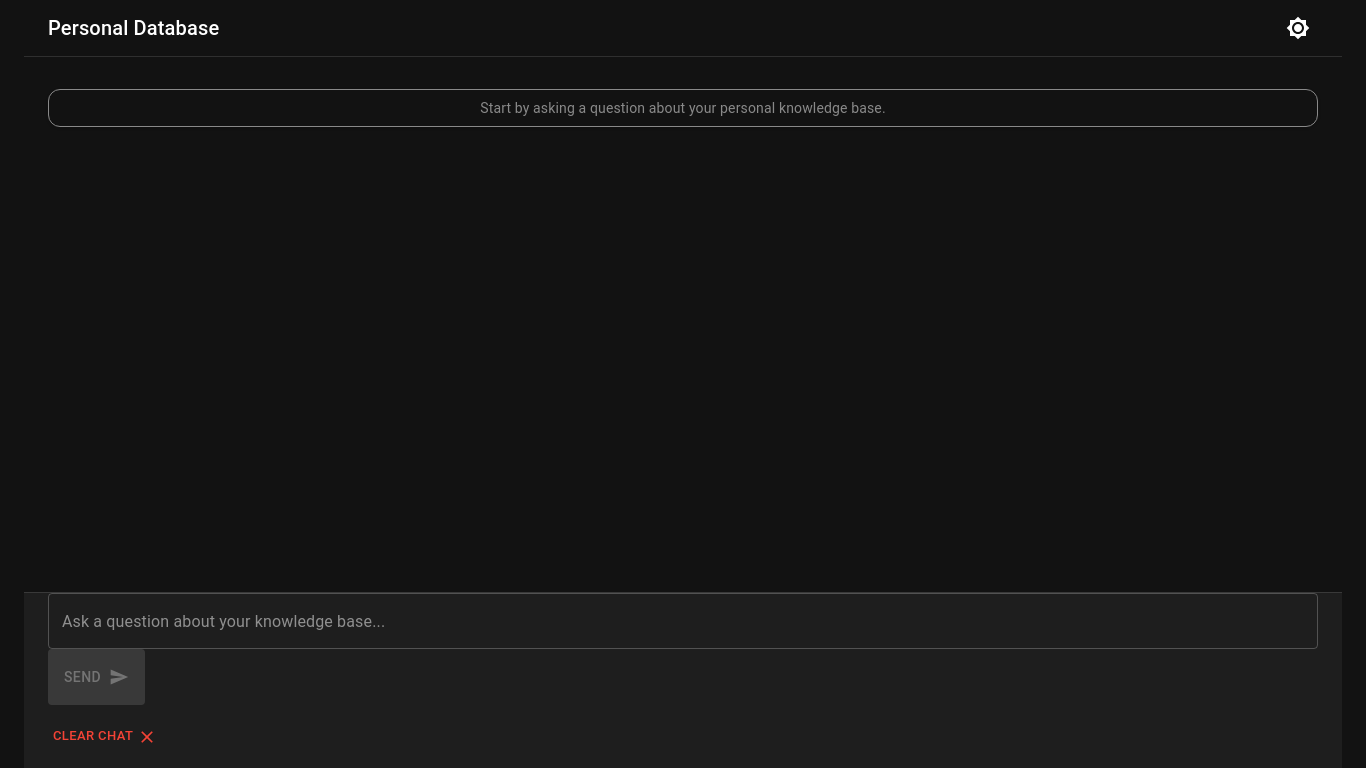
App › Input interaction › enables send button when input has text
Check: the button "Send" is disabled, box [48,649,145,705]
Type "Hello world" into the field with placeholder "Ask a question about your knowledge base..." at (683, 621), box [48,593,1318,649]
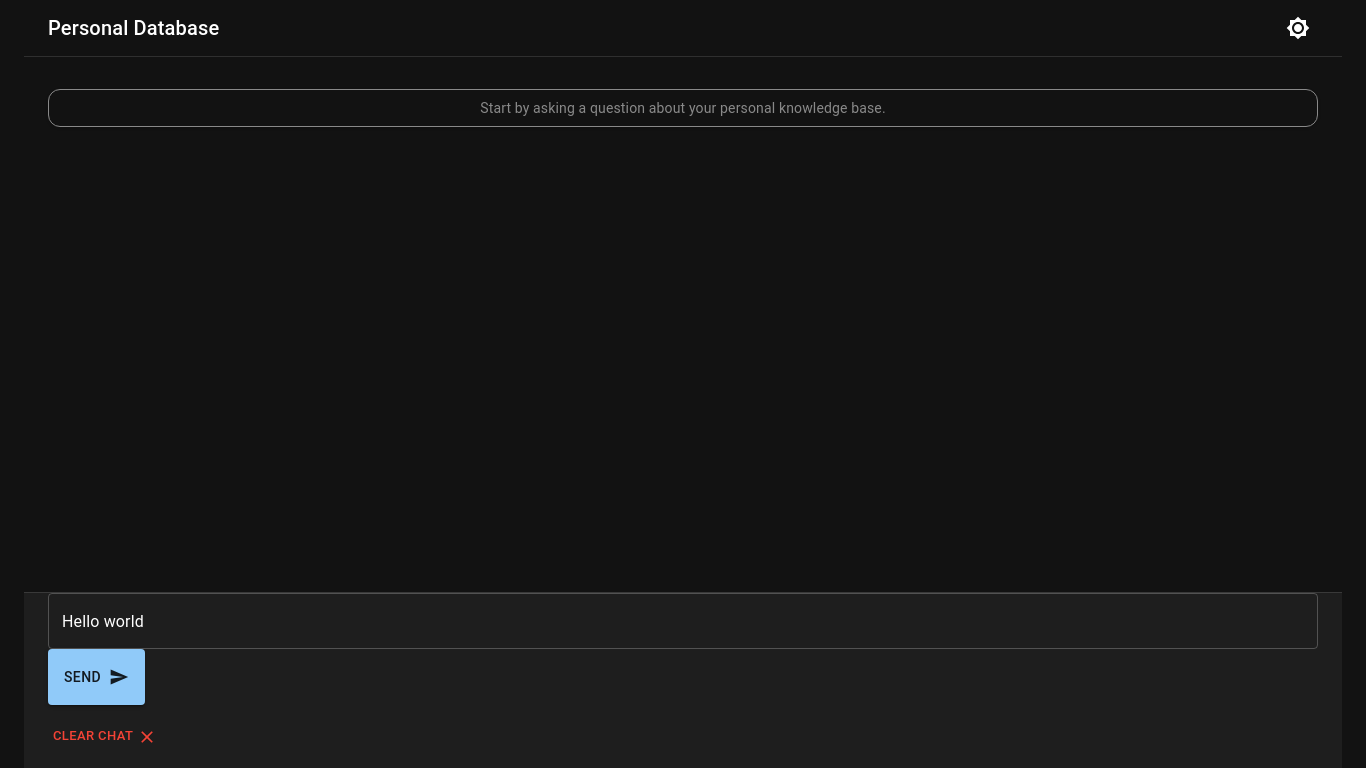
Check: the button "Send" is enabled, box [48,649,145,705]
